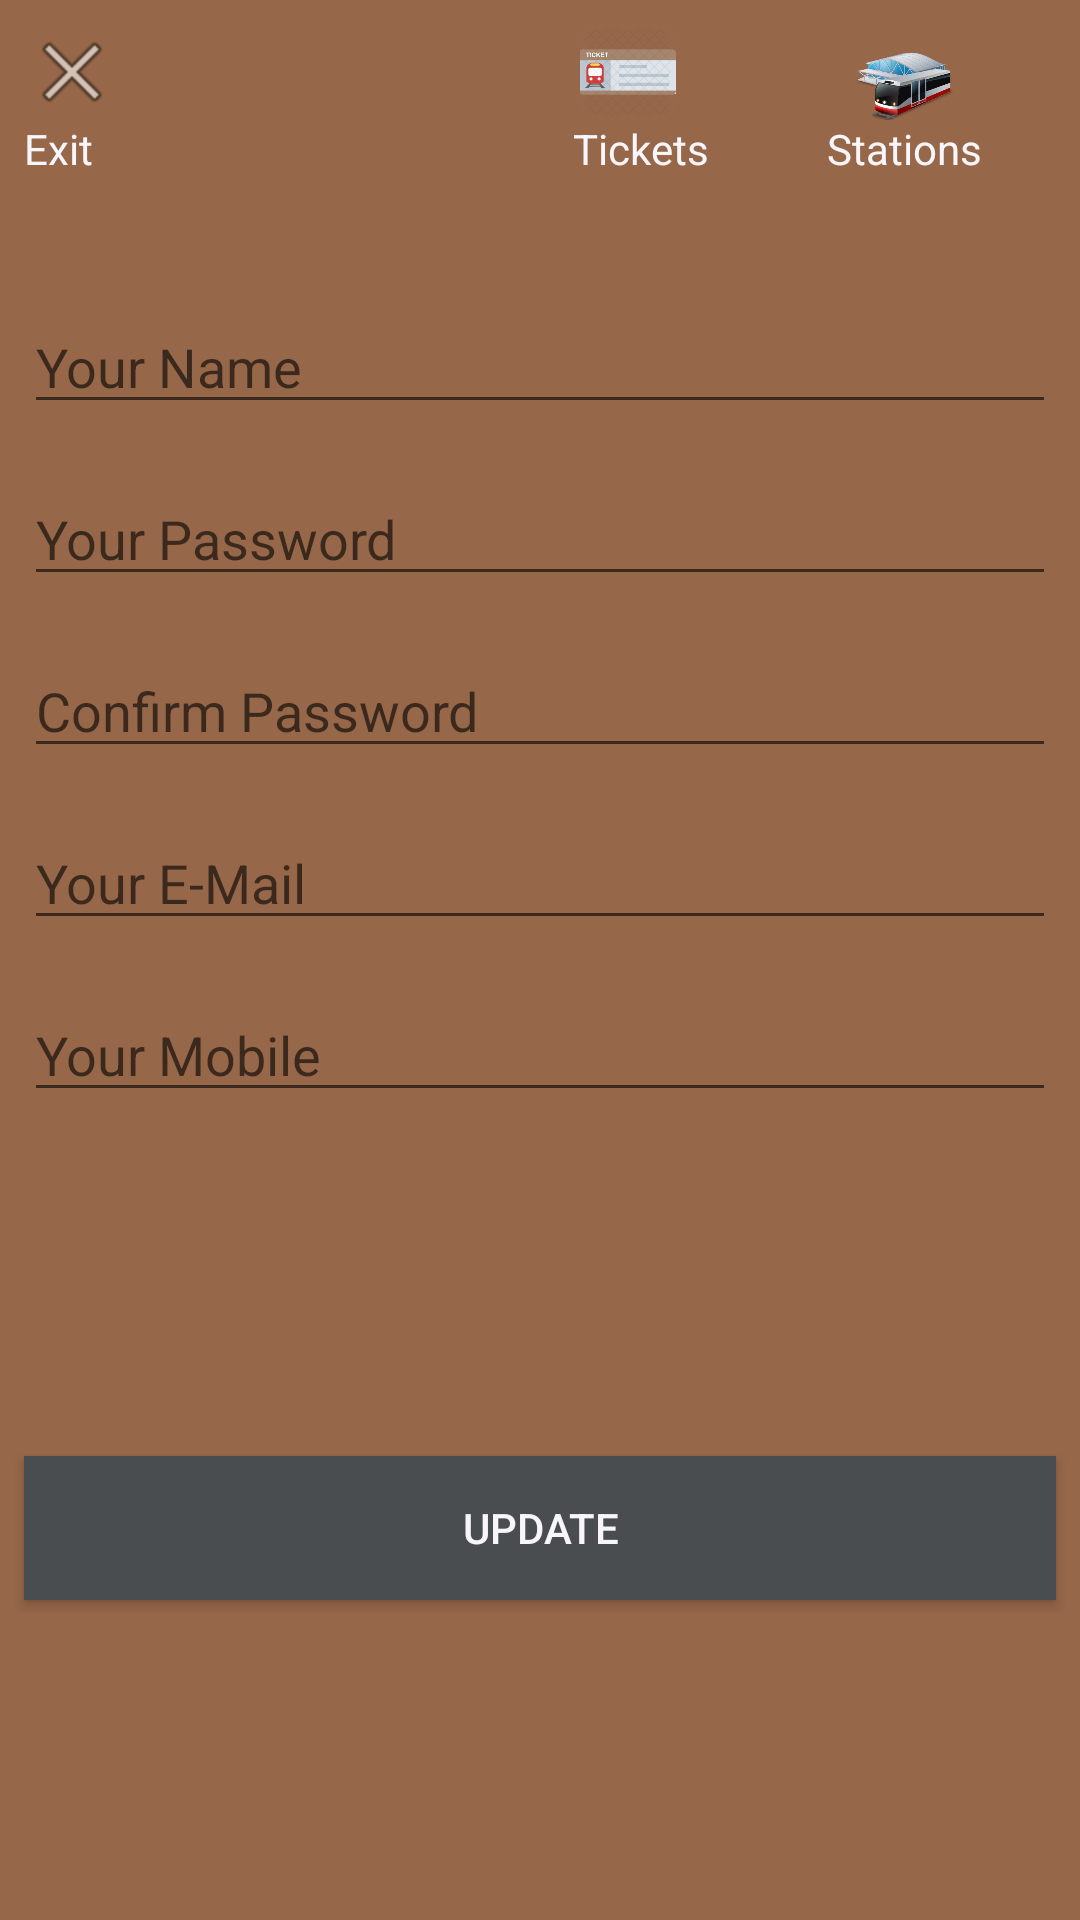

Named icons in this screenshot (1080 × 1920) and their bounding boxes, region(x1, y1, x2, y2):
close clear cancel: region(42, 42, 102, 102)
